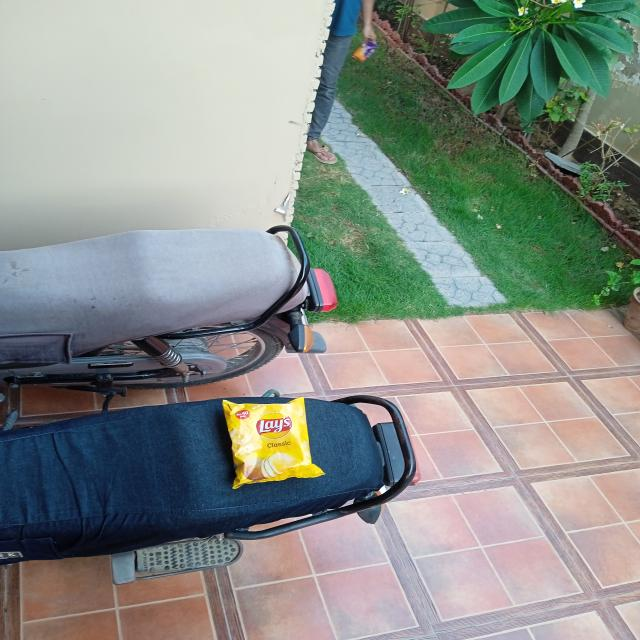Plastic: (218, 398, 326, 492)
